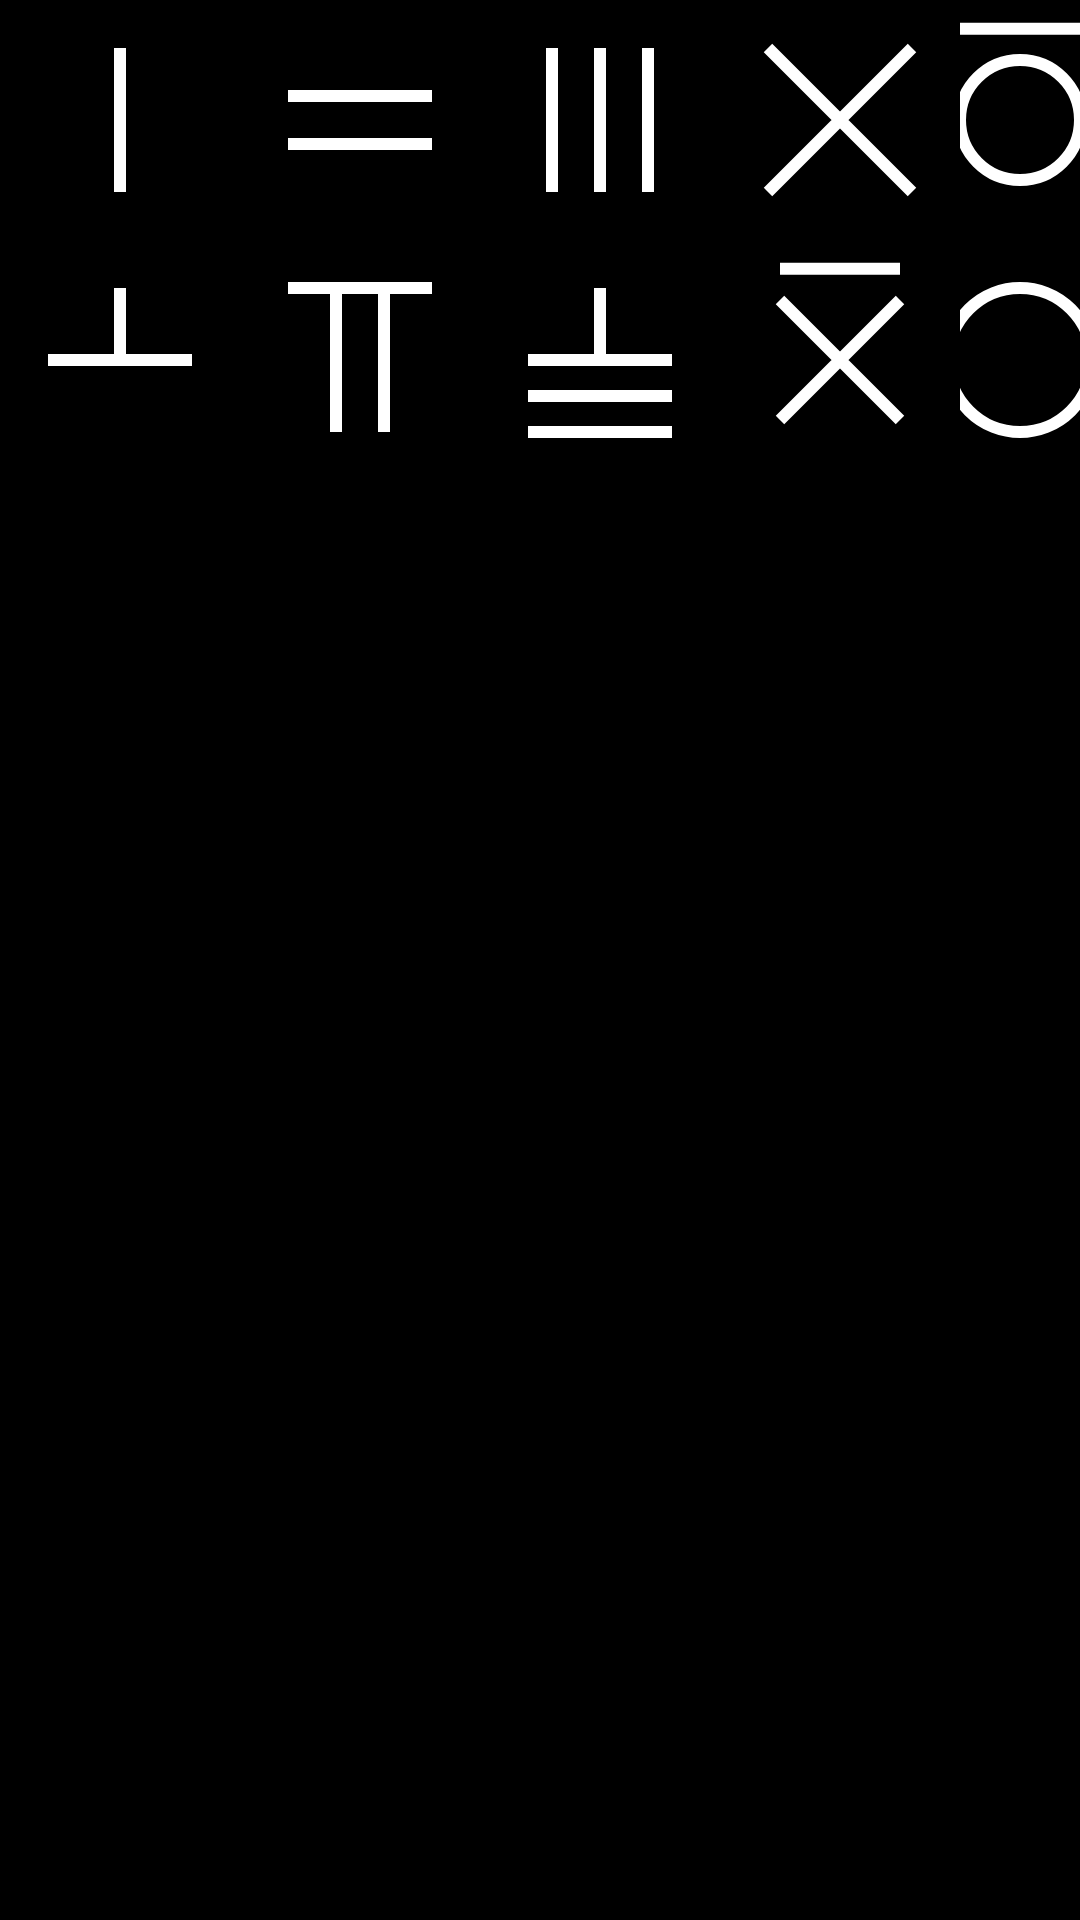

Icon bounding boxes for this 1080px x 1920px phone screenshot, format (x1, y1, x2, y2):
eight horizontal: (528, 288, 672, 438)
seven vertical: (288, 282, 432, 432)
six horizontal: (48, 288, 192, 366)
three vertical: (546, 48, 654, 192)
two horizontal: (288, 90, 432, 150)
